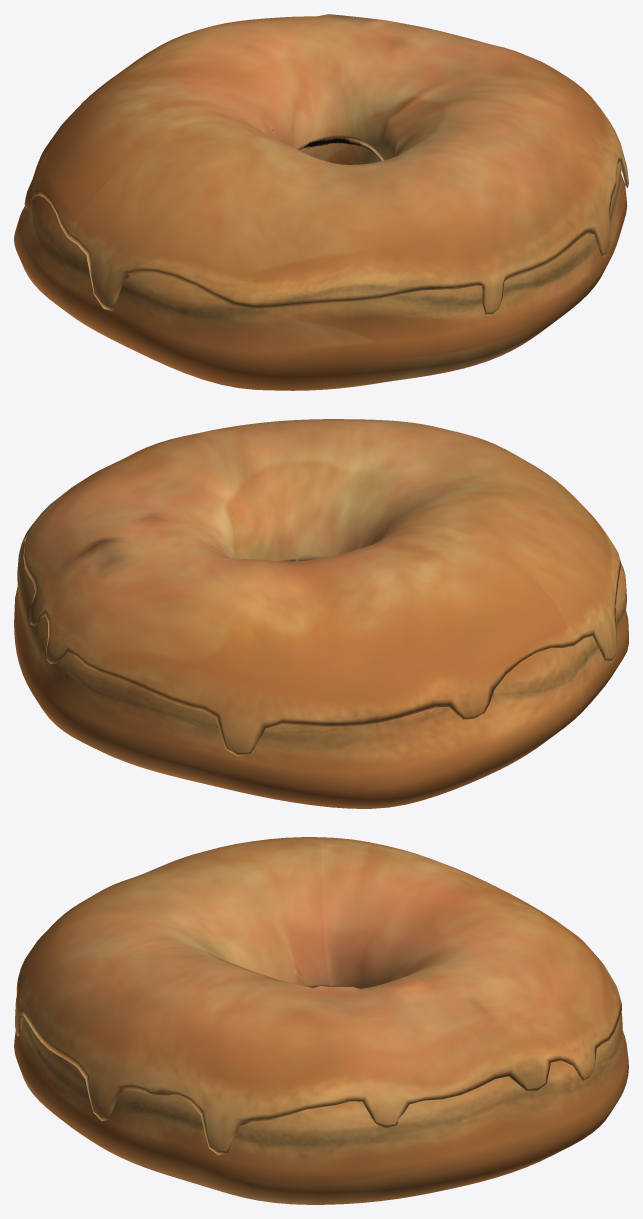
The model's file is donut02.obj.
3 views of the same model, one above another, from view 1: azimuth 30°, elevation 25°; view 2: azimuth 150°, elevation 25°; view 3: azimuth 270°, elevation 25° (orthographic).
Visible parts, largest first — view 1: Mesh; view 2: Mesh; view 3: Mesh.
Part boxes in pixels (x1,y1,x2,y2): Mesh: [14, 14, 628, 390]; Mesh: [14, 419, 628, 808]; Mesh: [14, 837, 628, 1204].
Bounding box in the file's own units: 3.99 × 1.46 × 4.
Materials: 1 (1 with a texture image).
